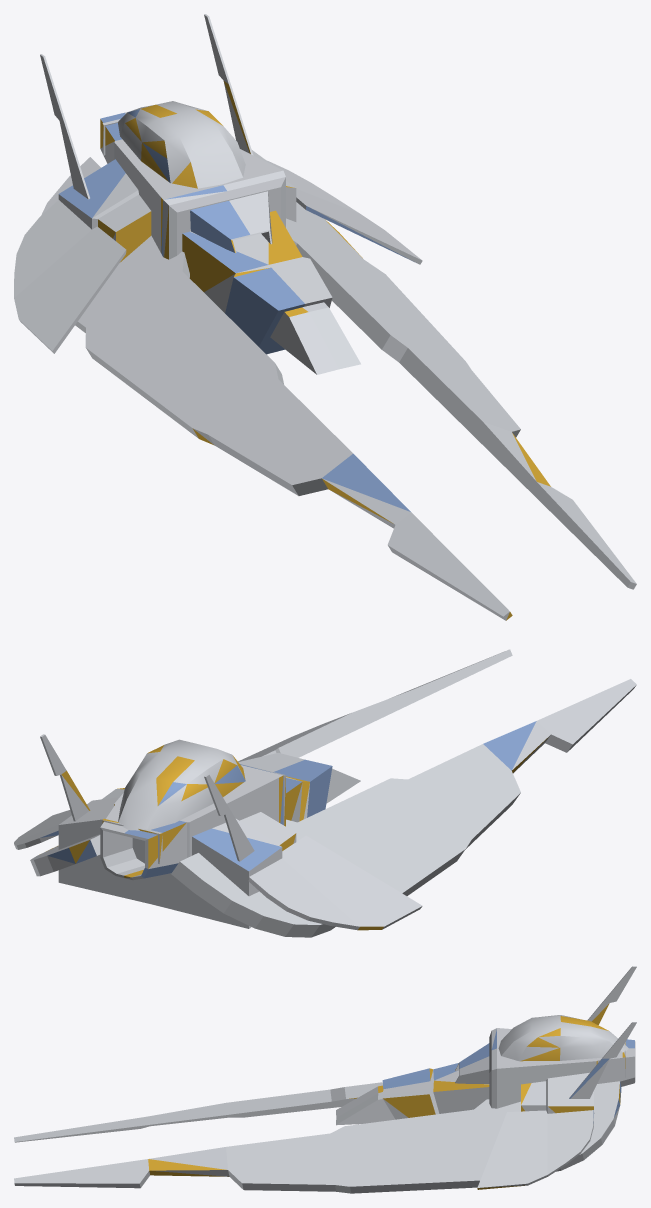
The model's file is destroyer.glb.
3 renders of one model, top to bottom at view 1: azimuth 30°, elevation 25°; view 2: azimuth 150°, elevation 25°; view 3: azimuth 270°, elevation 25°, orthographic. The views are drawn at different scales.
Parts seen in each view (by area): view 1: Dispatcher; view 2: Dispatcher; view 3: Dispatcher.
Boxes of the visible parts, box(x1,y1,x2,y2) form: Dispatcher: box(14, 14, 636, 620); Dispatcher: box(14, 649, 636, 937); Dispatcher: box(14, 966, 636, 1193).
Size of the model in its own units: 4.78 by 3.01 by 10.
